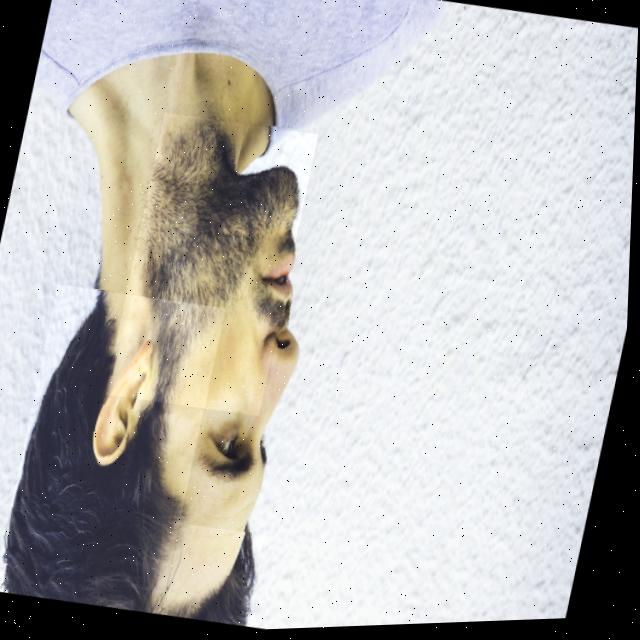beard: (142, 120, 298, 404)
hair: (5, 291, 183, 615), (167, 534, 257, 628)
